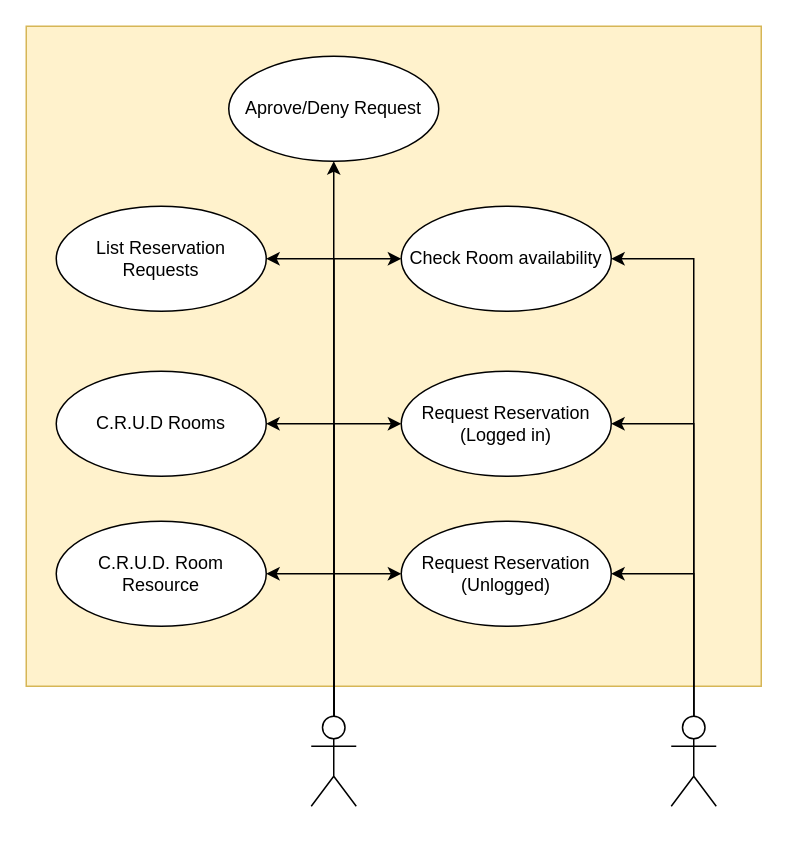
This 788x864 diagram has some shape labels left out. The shapes that lost their labels are listed below. From the top down, each one's box as (x1, y1, x2, y2) in pixels, then its label:
(310, 715, 356, 806): Manager
(670, 715, 716, 806): Common User
